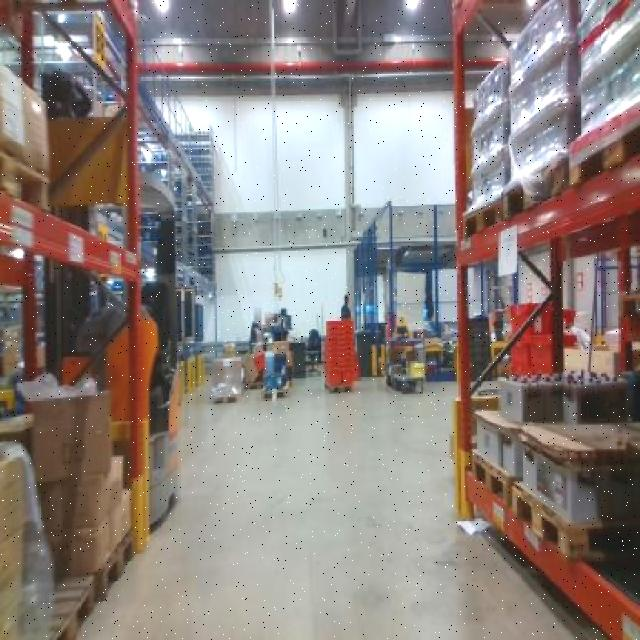pallet: (508, 474, 582, 564), (88, 520, 141, 612), (472, 452, 518, 506), (509, 483, 543, 539), (260, 386, 290, 402), (210, 393, 241, 407), (326, 384, 352, 392)
